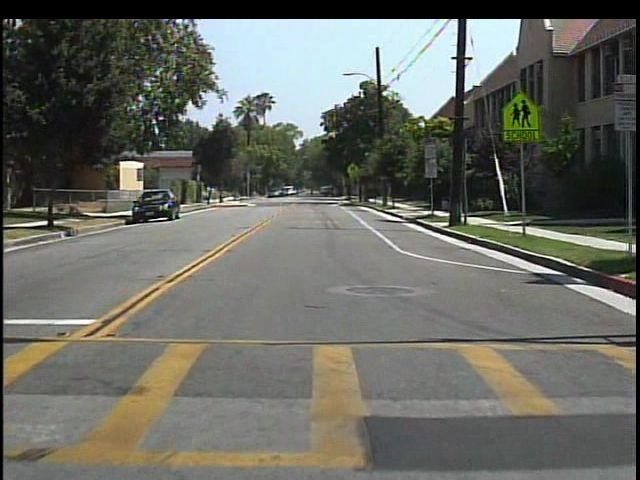person: (305, 184, 320, 201)
